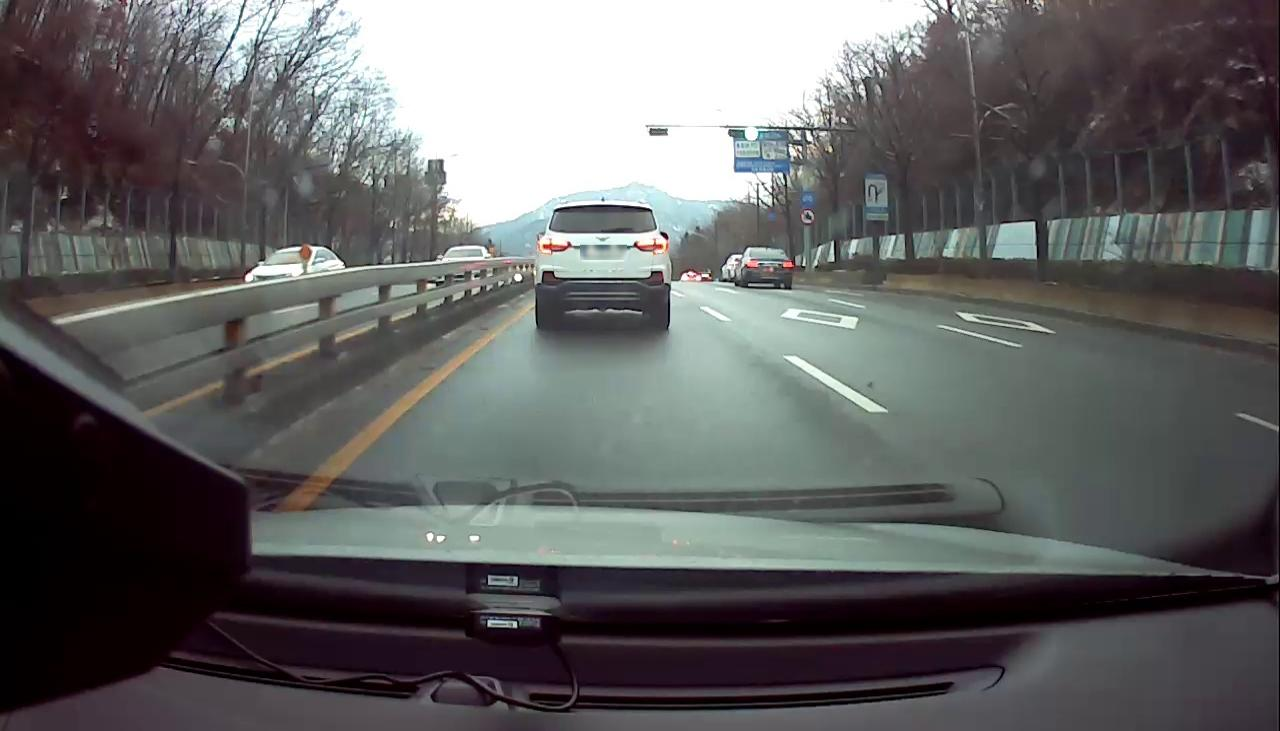Green Light: (744, 127, 759, 140), (668, 126, 679, 139)
